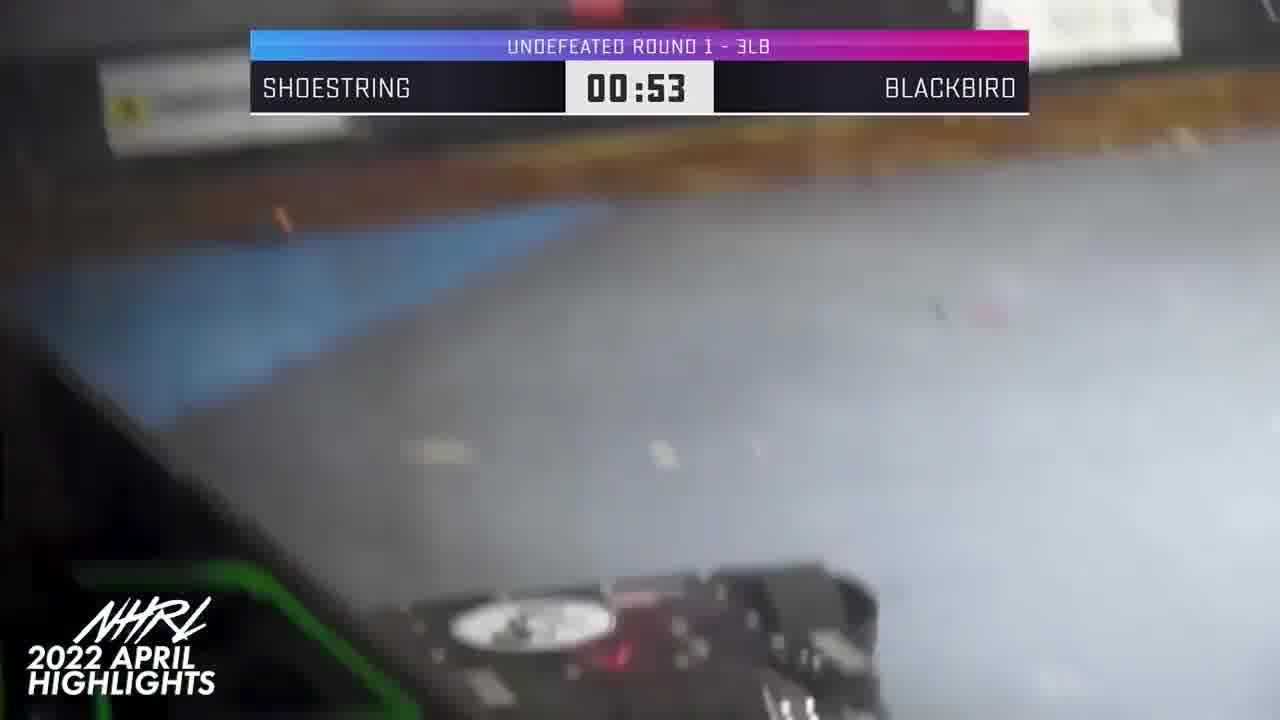combatbot: (352, 562, 896, 720)
